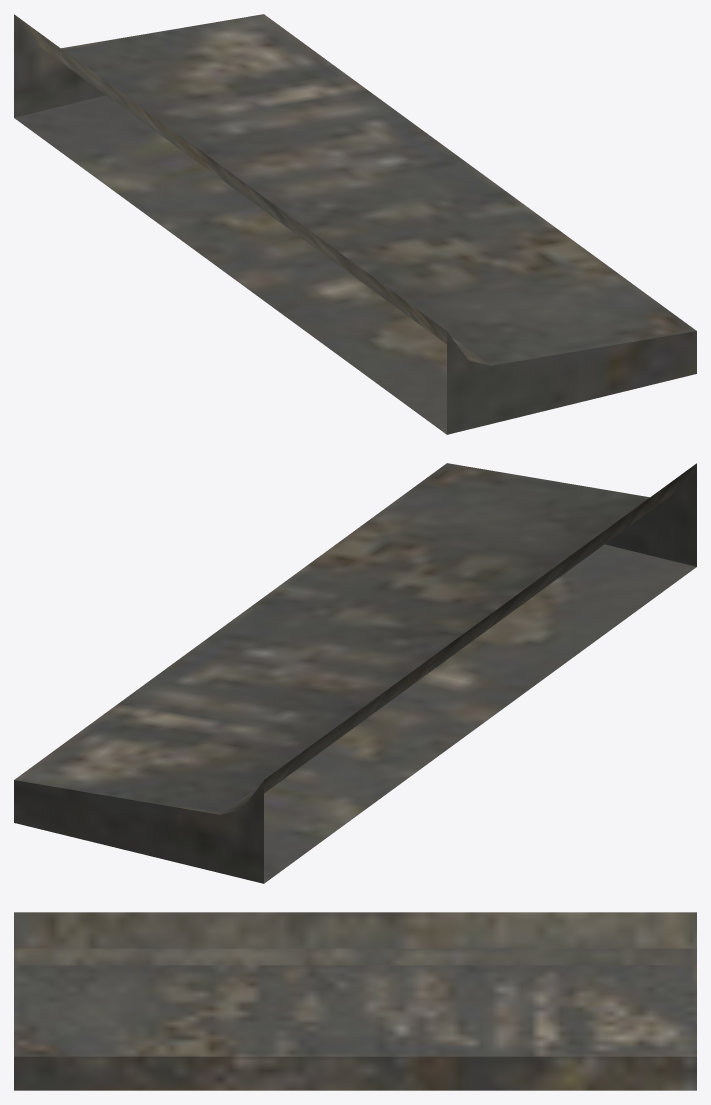
The model's file is WindowTop_M.FBX.
The picture shows the model from 3 angles, top to bottom: view 1: azimuth 30°, elevation 25°; view 2: azimuth 150°, elevation 25°; view 3: azimuth 270°, elevation 25°; orthographic projection. The views are drawn at different scales.
Parts seen in each view (by area): view 1: WindowTop_M; view 2: WindowTop_M; view 3: WindowTop_M.
Part boxes in pixels (x1,y1,x2,y2): WindowTop_M: (14, 14, 696, 434); WindowTop_M: (14, 463, 696, 883); WindowTop_M: (14, 912, 696, 1090).
Bounding box in the file's own units: 80.93 × 32.1 × 243.
